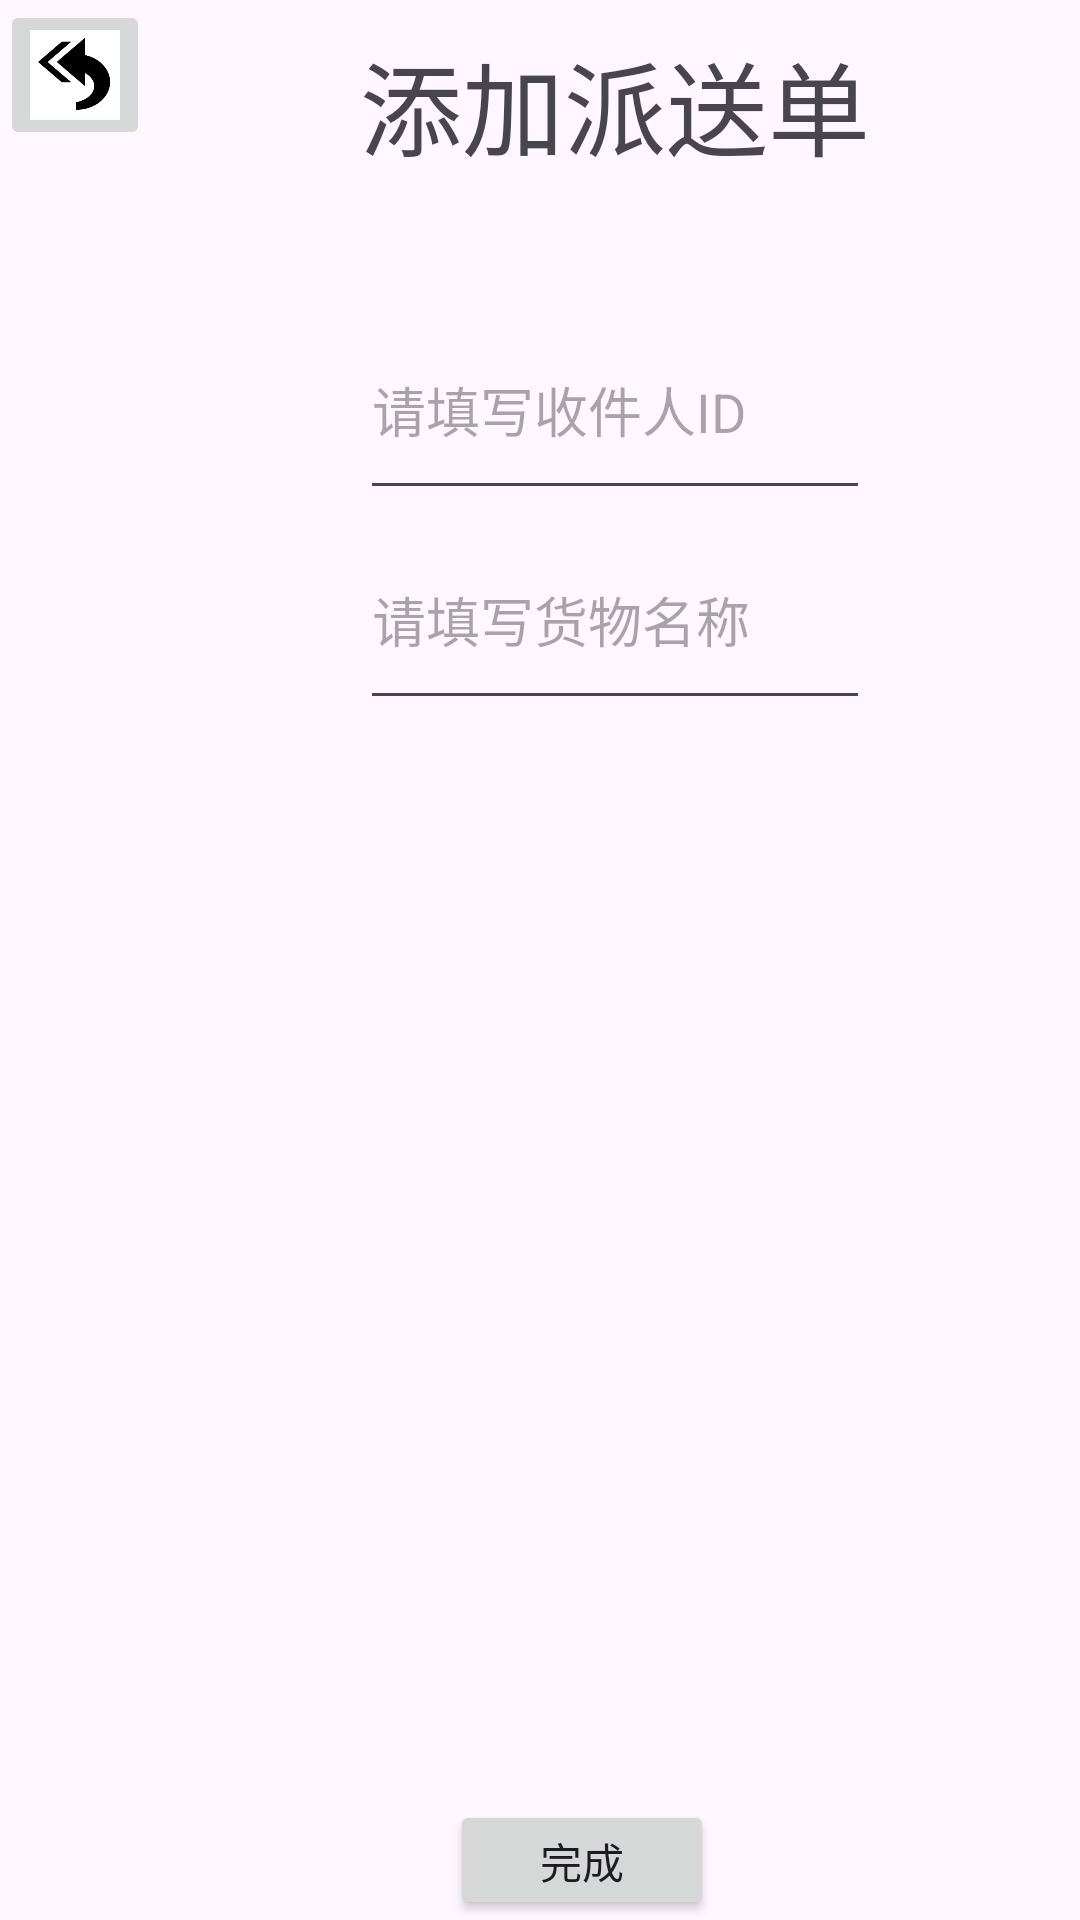

Where to tap for icons on this 1080 x 1920 app screen, as [x,y]:
back: [75,75]
